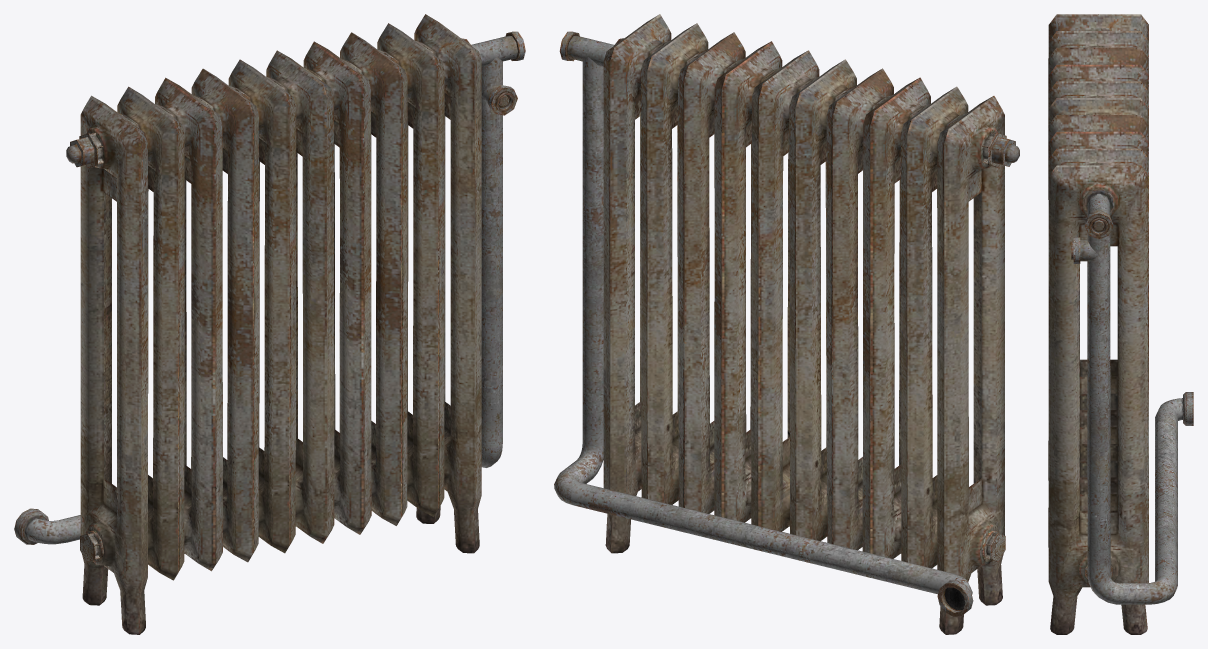
File: Heatera.fbx
The picture shows the model from 3 angles, left to right: view 1: azimuth 30°, elevation 25°; view 2: azimuth 150°, elevation 25°; view 3: azimuth 270°, elevation 25°; orthographic projection. The views are drawn at different scales.
Visible parts, largest first — view 1: LODGroup_1_MainMesh_1_SubMesh_1; view 2: LODGroup_1_MainMesh_1_SubMesh_1; view 3: LODGroup_1_MainMesh_1_SubMesh_1.
Part boxes in pixels (box(x1,y1,x2,y2)): LODGroup_1_MainMesh_1_SubMesh_1: box(14, 14, 525, 634); LODGroup_1_MainMesh_1_SubMesh_1: box(554, 14, 1019, 634); LODGroup_1_MainMesh_1_SubMesh_1: box(1048, 14, 1193, 634).
Bounding box in the file's own units: 87.9 × 93.06 × 26.23.
